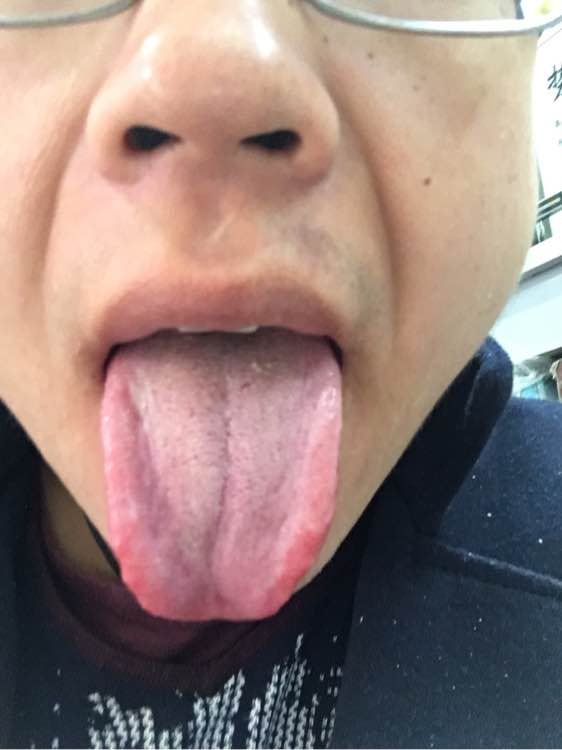baitaishe: (102, 320, 343, 622)
hongshe: (102, 320, 343, 622)
liewenshe: (207, 388, 231, 568)
